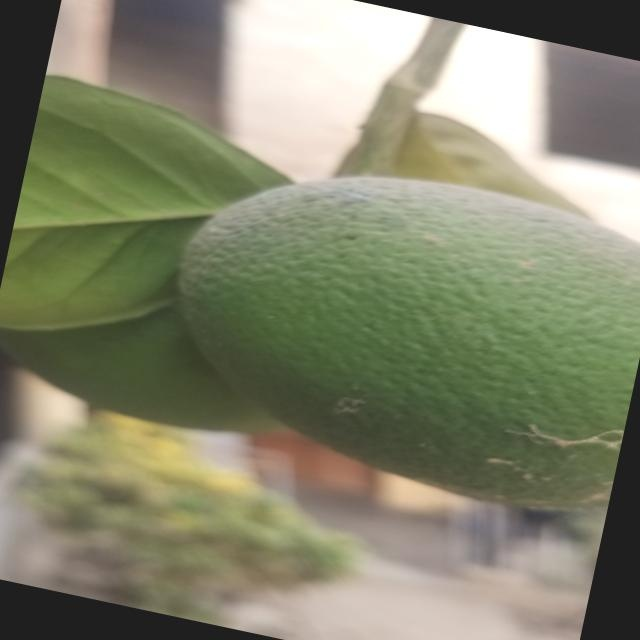agrume: (146, 127, 640, 523)
